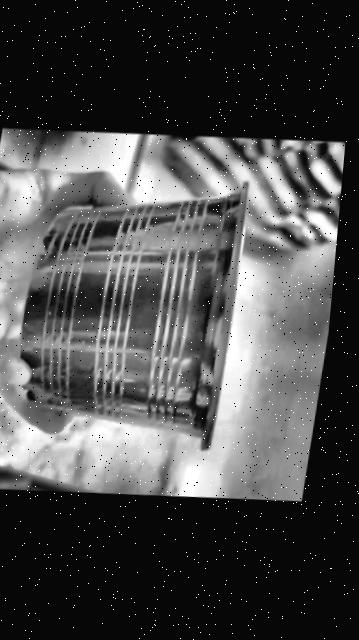pot: (19, 182, 246, 448)
